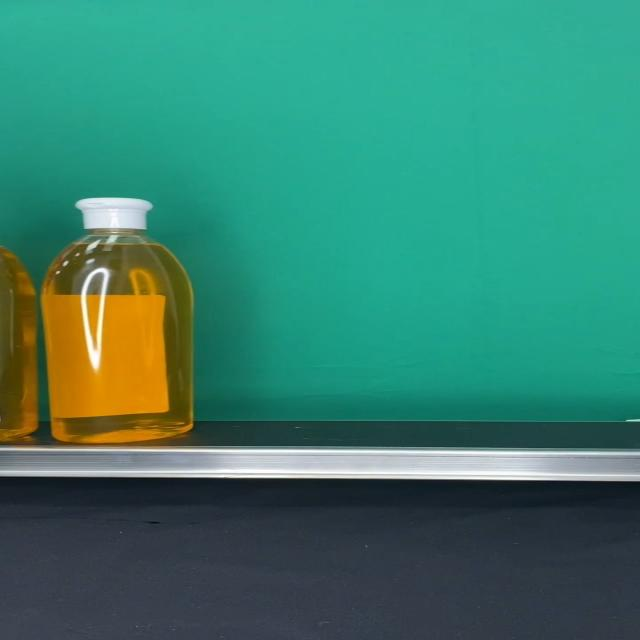Bottle: (42, 198, 194, 442)
Cap: (74, 198, 154, 230)
